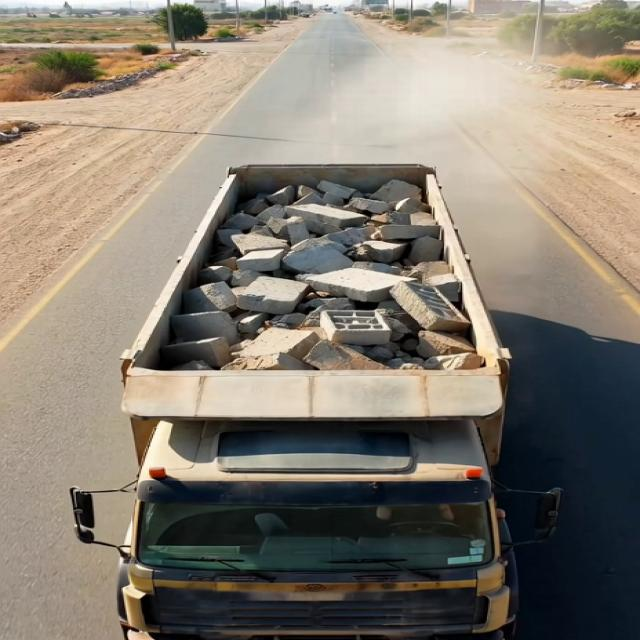Box: (109, 158, 498, 434)
Truck: (66, 132, 567, 635)
